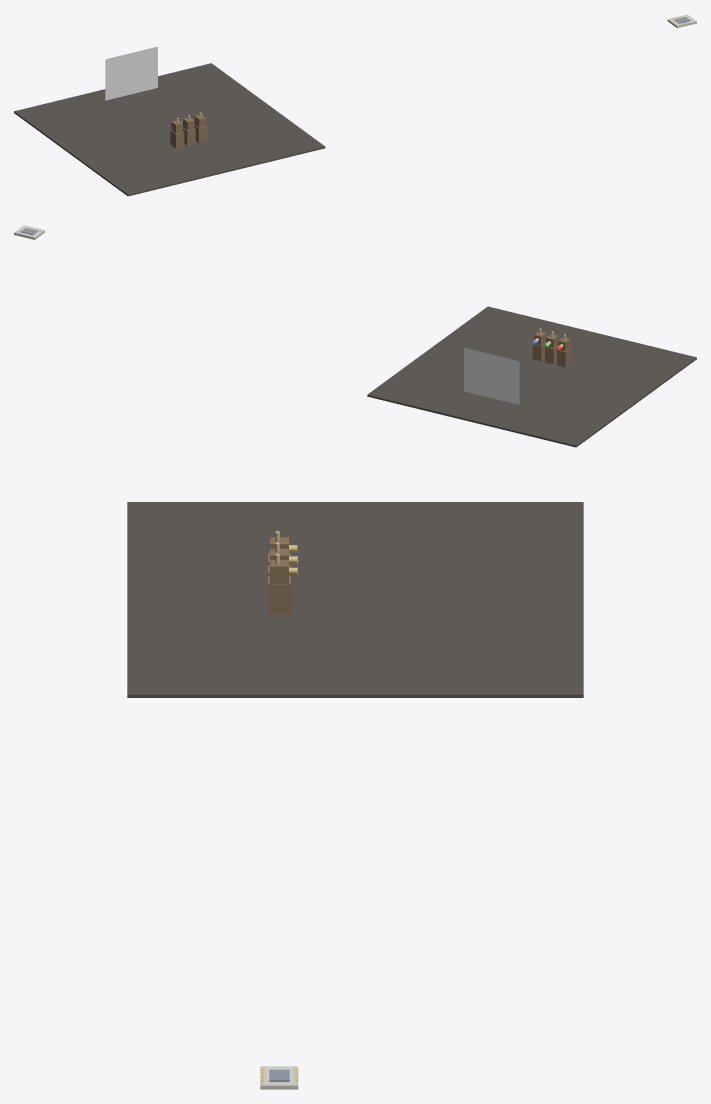
The picture shows the model from 3 angles, top to bottom: view 1: azimuth 30°, elevation 25°; view 2: azimuth 150°, elevation 25°; view 3: azimuth 270°, elevation 25°; orthographic projection. The views are drawn at different scales.
Parts seen in each view (by area): view 1: floor, screen; view 2: floor, screen; view 3: floor.
Part boxes in pixels (x1,y1,x2,y2): floor: [14, 63, 325, 196]; screen: [105, 46, 157, 100]; floor: [367, 306, 696, 447]; screen: [464, 347, 519, 404]; floor: [127, 502, 583, 697].
Bounding box in the file's own units: 36.6 × 2.9 × 12.
